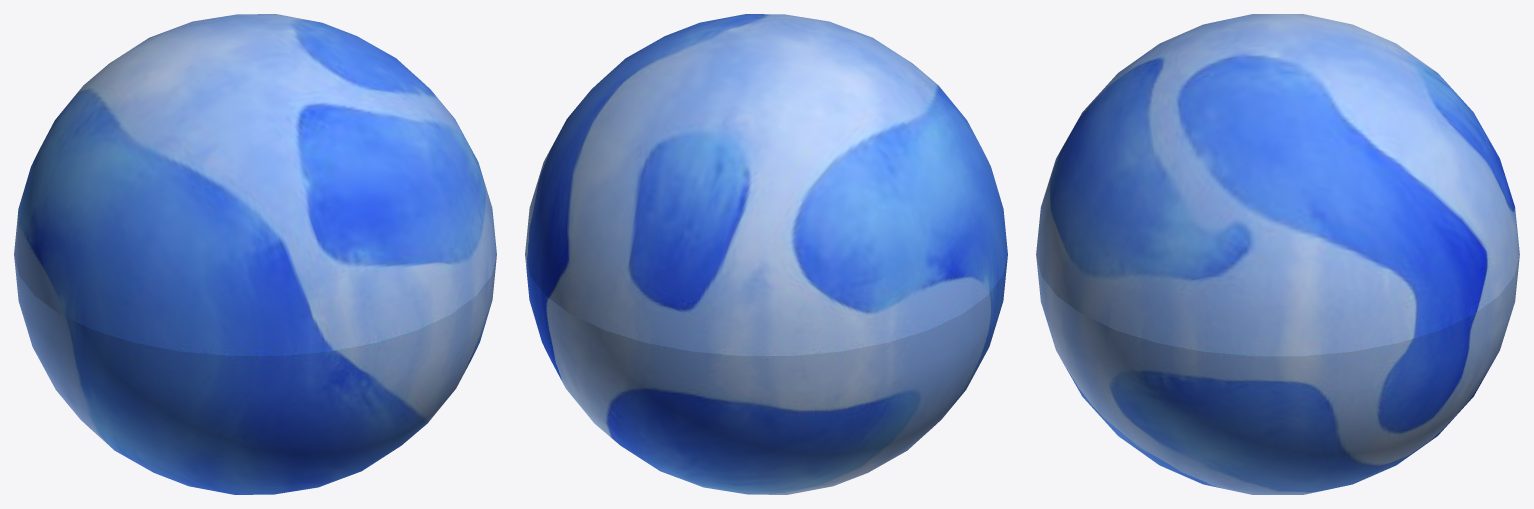
Rendered from marble.obj.
3 views of the same model, side by side, from view 1: azimuth 30°, elevation 25°; view 2: azimuth 150°, elevation 25°; view 3: azimuth 270°, elevation 25° (orthographic).
Parts seen in each view (by area): view 1: marble_Mesh; view 2: marble_Mesh; view 3: marble_Mesh.
Part boxes in pixels (x1,y1,x2,y2): marble_Mesh: (14,14,496,494); marble_Mesh: (525,14,1007,494); marble_Mesh: (1036,14,1519,494).
Bounding box in the file's own units: 0.3978 × 0.4 × 0.4.
Materials: 1 (1 with a texture image).
